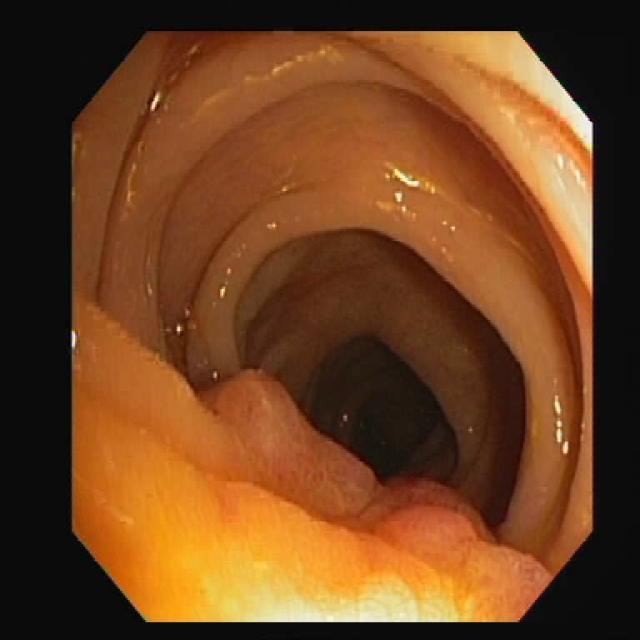tumor: (202, 371, 550, 620)
